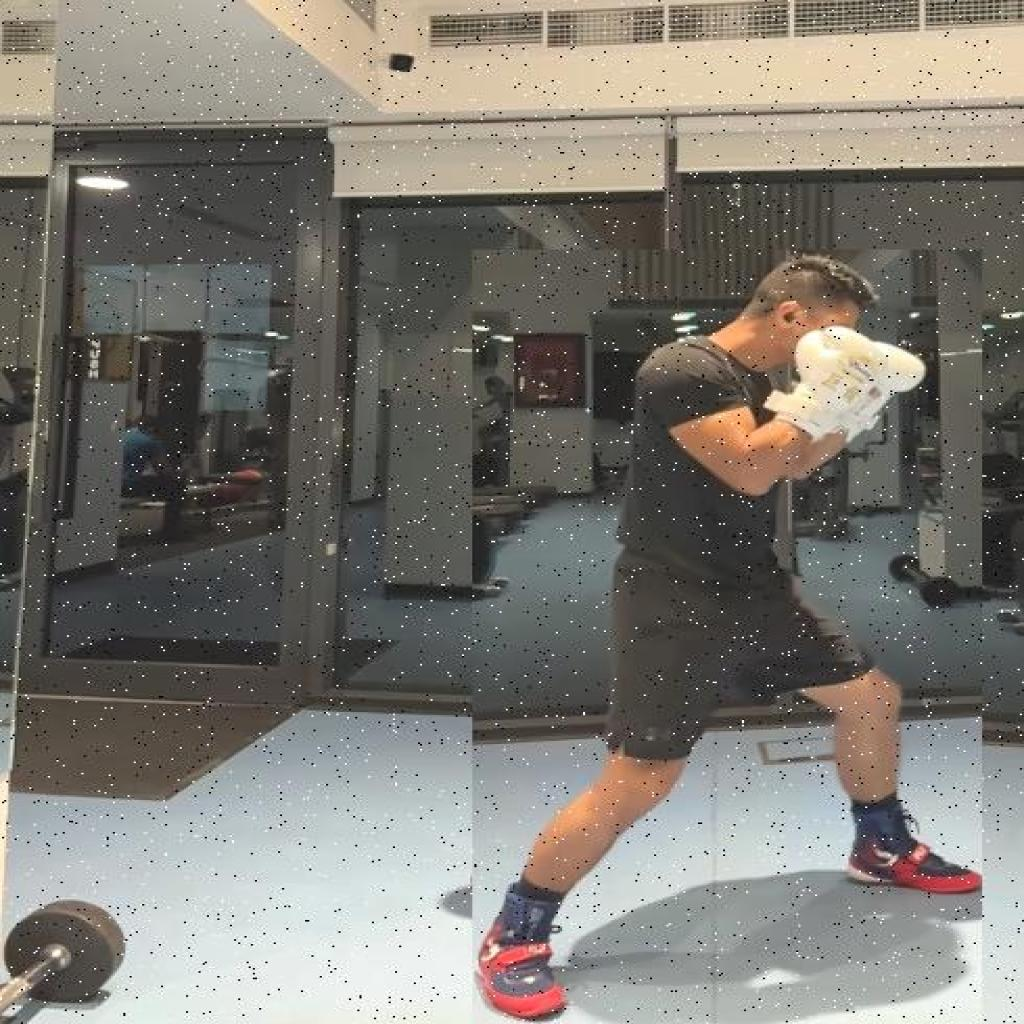no punch: (472, 249, 983, 1024)
